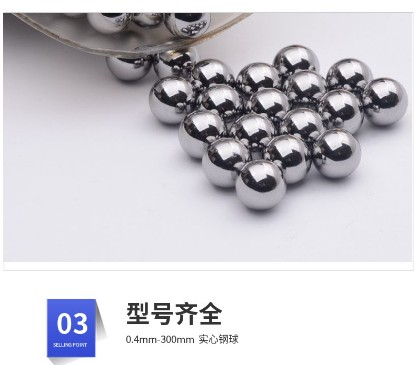ironball: (234, 159, 286, 210), (311, 127, 361, 179), (201, 137, 251, 188), (177, 109, 227, 159), (262, 133, 311, 184), (147, 75, 195, 124), (228, 112, 277, 160), (360, 76, 407, 126), (316, 88, 363, 134), (195, 83, 243, 123), (282, 68, 328, 109), (278, 106, 325, 146), (325, 57, 373, 96), (244, 86, 290, 125), (234, 61, 282, 98), (188, 57, 234, 92), (272, 44, 319, 78), (152, 45, 199, 79), (105, 54, 152, 81), (163, 12, 210, 38), (85, 12, 131, 34), (131, 12, 163, 28), (62, 12, 85, 17)
